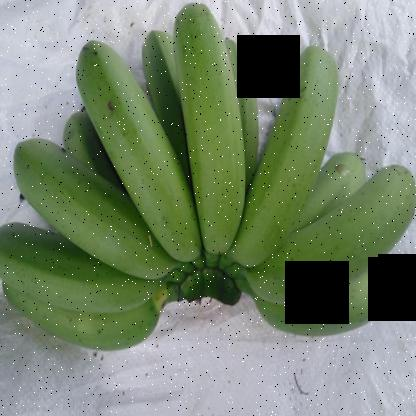freshunripe: (242, 162, 415, 310), (0, 133, 169, 283), (227, 42, 337, 272), (162, 1, 248, 253), (0, 274, 177, 366), (0, 218, 151, 314), (264, 261, 404, 351)
unripe: (66, 29, 190, 260)
